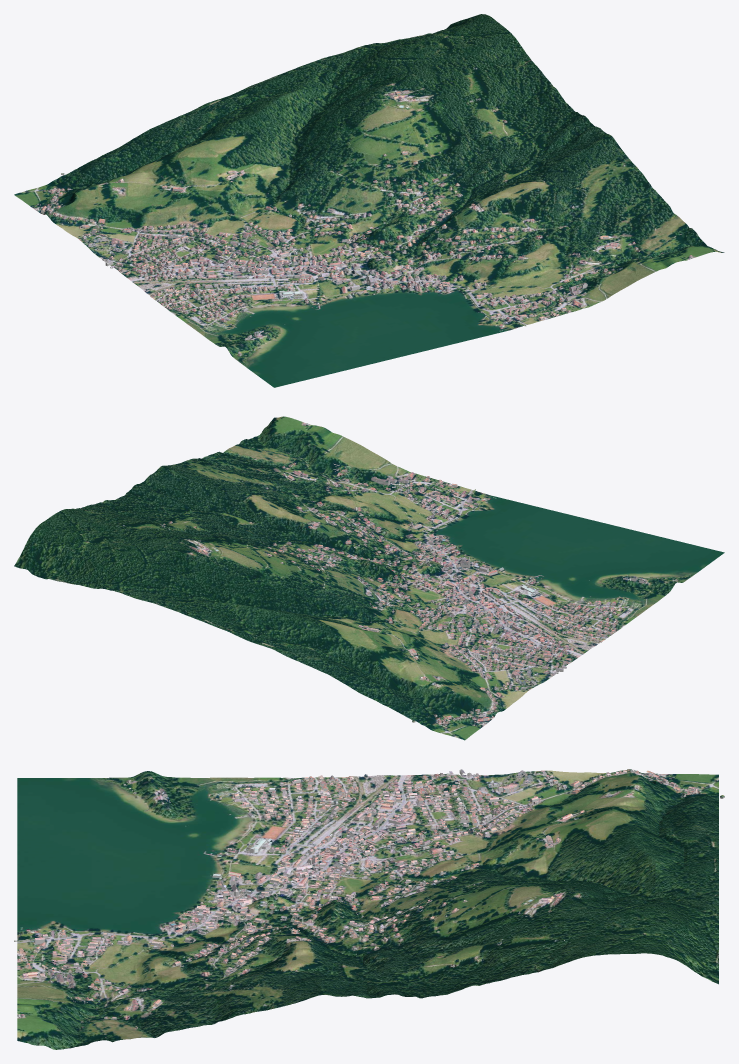
File: asset.glb
The picture shows the model from 3 angles, top to bottom: view 1: azimuth 30°, elevation 25°; view 2: azimuth 150°, elevation 25°; view 3: azimuth 270°, elevation 25°; orthographic projection. The views are drawn at different scales.
Visible parts, largest first — view 1: DGM_Schliersee_10m, Dach, Fassaden; view 2: DGM_Schliersee_10m, Dach, Fassaden; view 3: DGM_Schliersee_10m, Dach, Fassaden.
Boxes of the visible parts, x1,y1,x2,y2 form: DGM_Schliersee_10m: (14,14,724,387); Dach: (32,67,691,355); Fassaden: (33,68,692,355); DGM_Schliersee_10m: (14,416,724,740); Dach: (122,423,677,727); Fassaden: (124,424,677,728); DGM_Schliersee_10m: (17,769,718,1049); Dach: (14,769,724,1037); Fassaden: (14,770,724,1037).
Size of the model in its own units: 2005 by 486 by 2016.
Materials: 7 (3 with a texture image).
